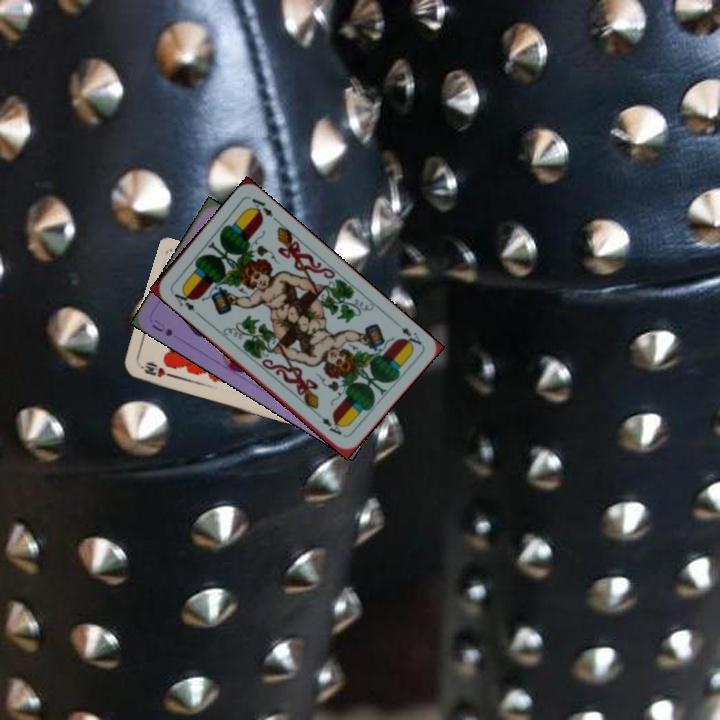EA: (392, 317, 424, 351), (170, 285, 201, 317)
H10: (136, 358, 176, 380)
SU: (147, 315, 175, 339)
